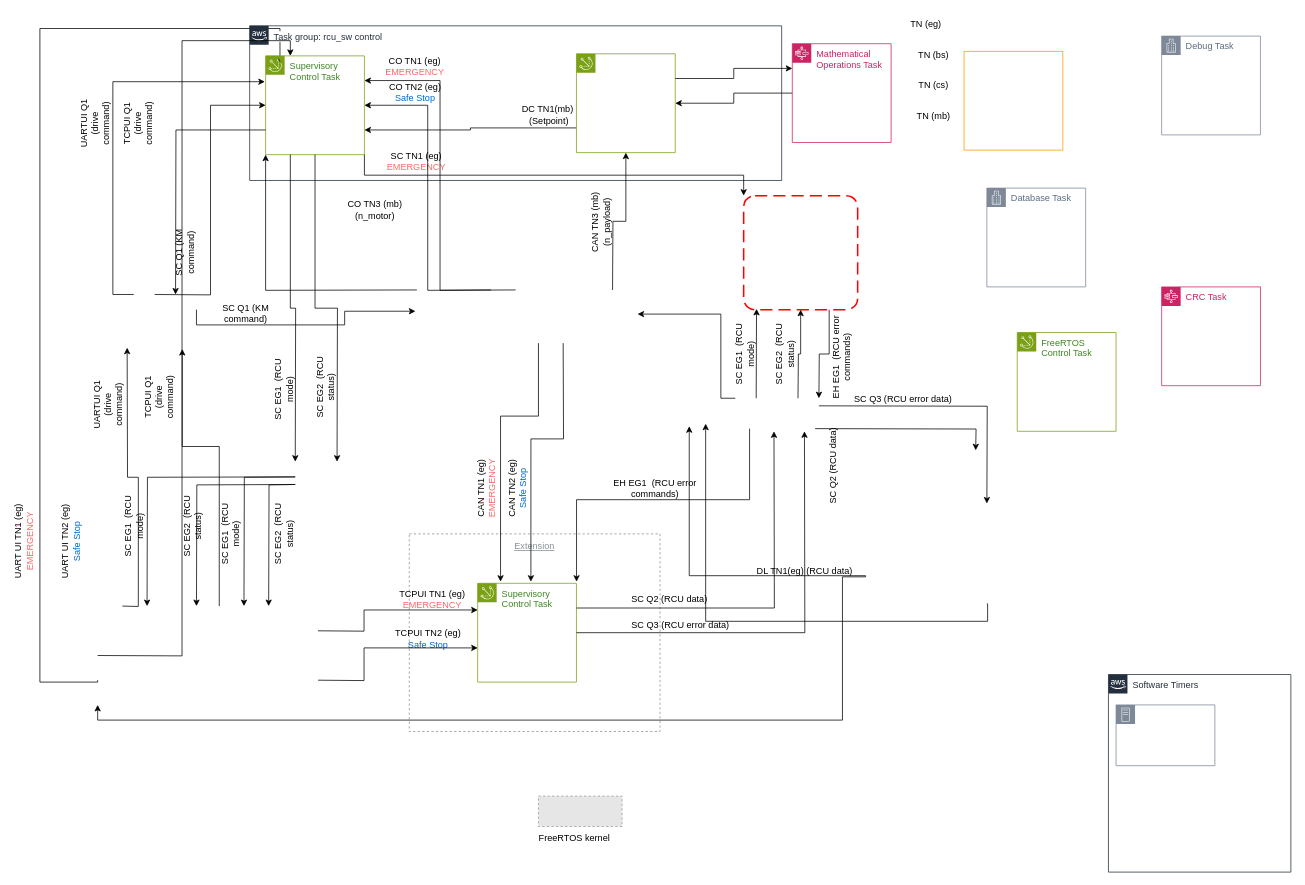
This 1305x885 diagram has some shape labels left out. Grey dashed boxes stand in for pictures. The shapes that lost their labels are listed below. From the top down, each one's centre as x and y in pixels, then its label:
point (625, 103): Dynamic control task
point (1013, 100): BIT Task
point (800, 252): Error Handling Task
point (1165, 735): Software Timer: Rate Profile 1
